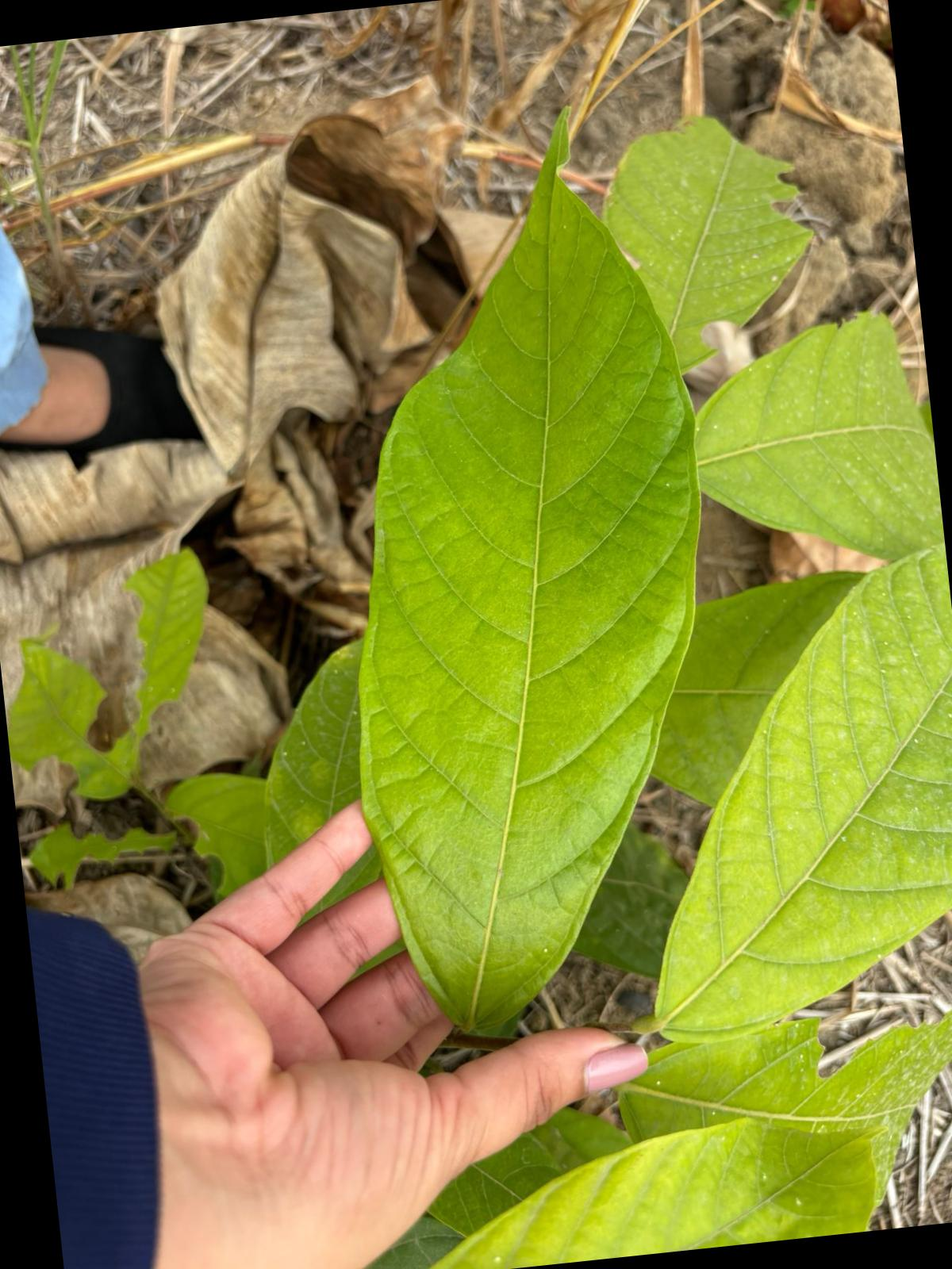Nitrogeno: (359, 116, 699, 1028), (656, 547, 951, 1041), (695, 314, 944, 559)
